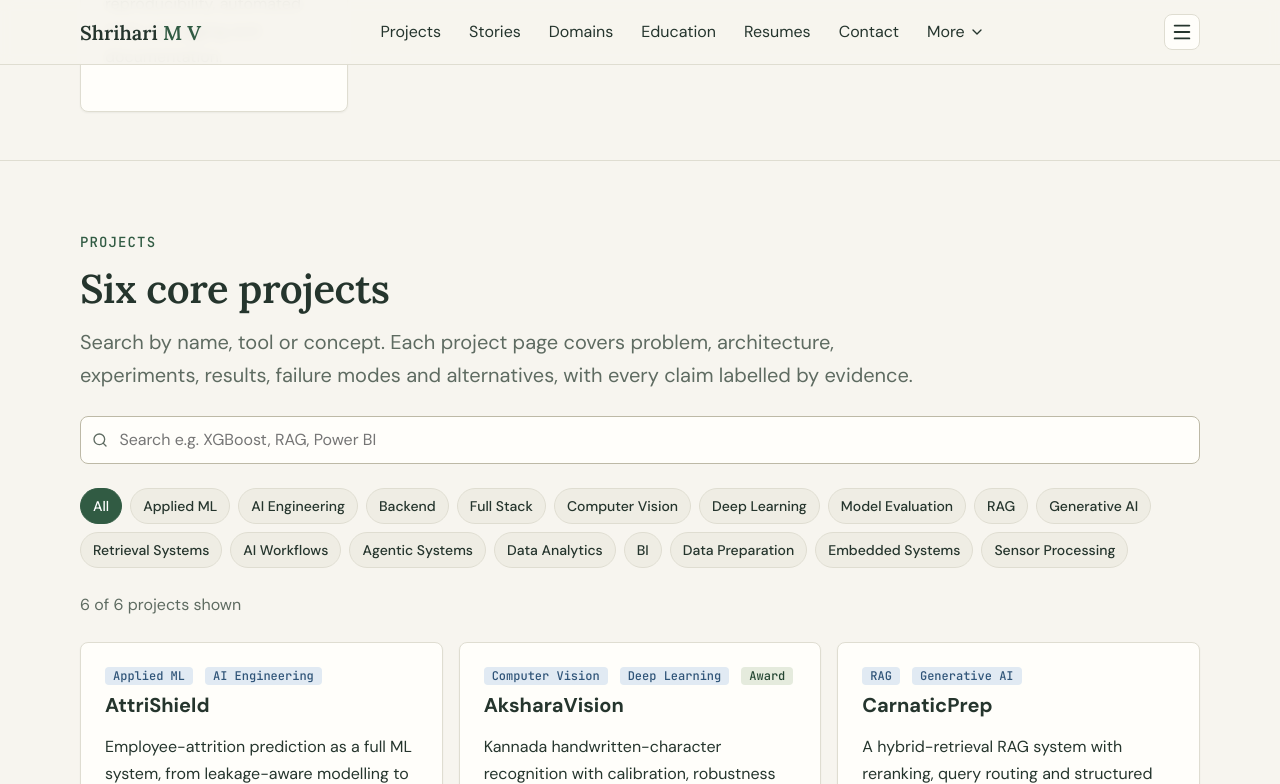
Scenario: public portfolio › shows all six projects and filters by search
(page scrolled)
In the search field named "Search projects": (640, 440) [80,416,1200,464], type "BM25"
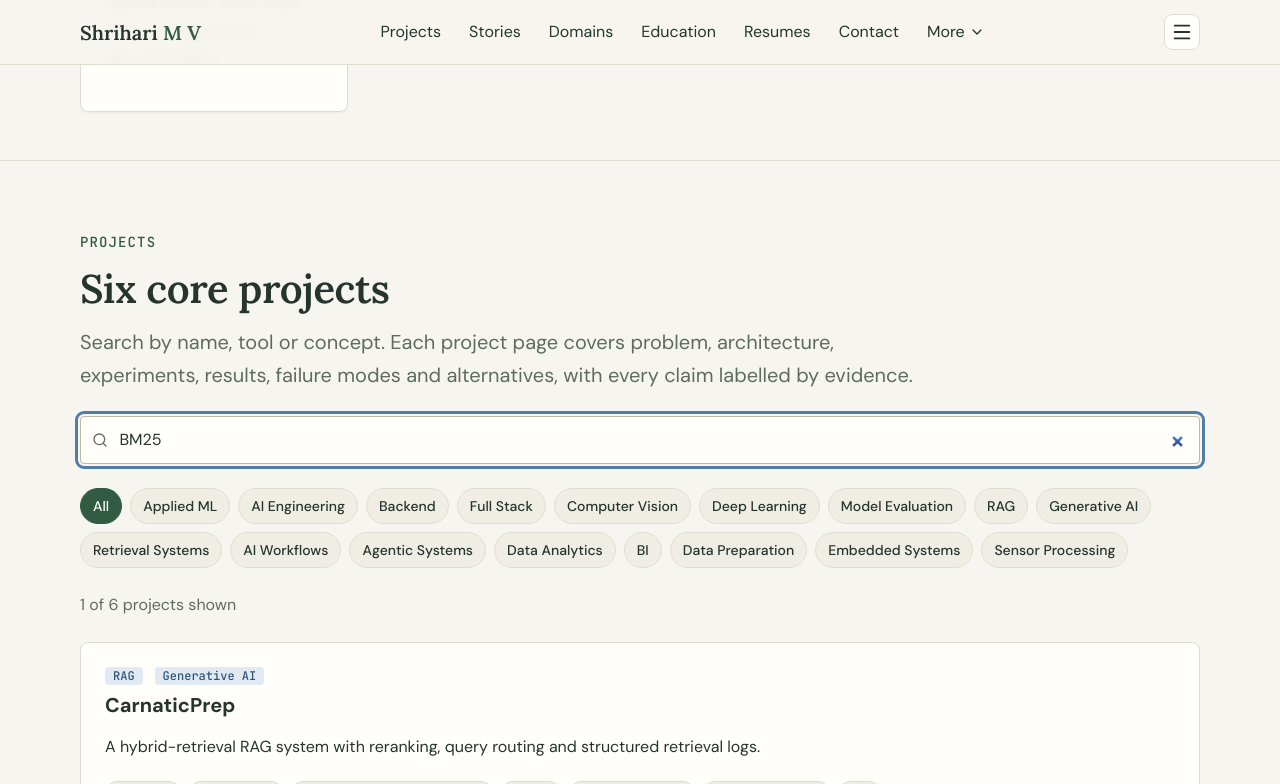
Replace the text in the search field named "Search projects" with "zzzz": (640, 440) [80,416,1200,464]
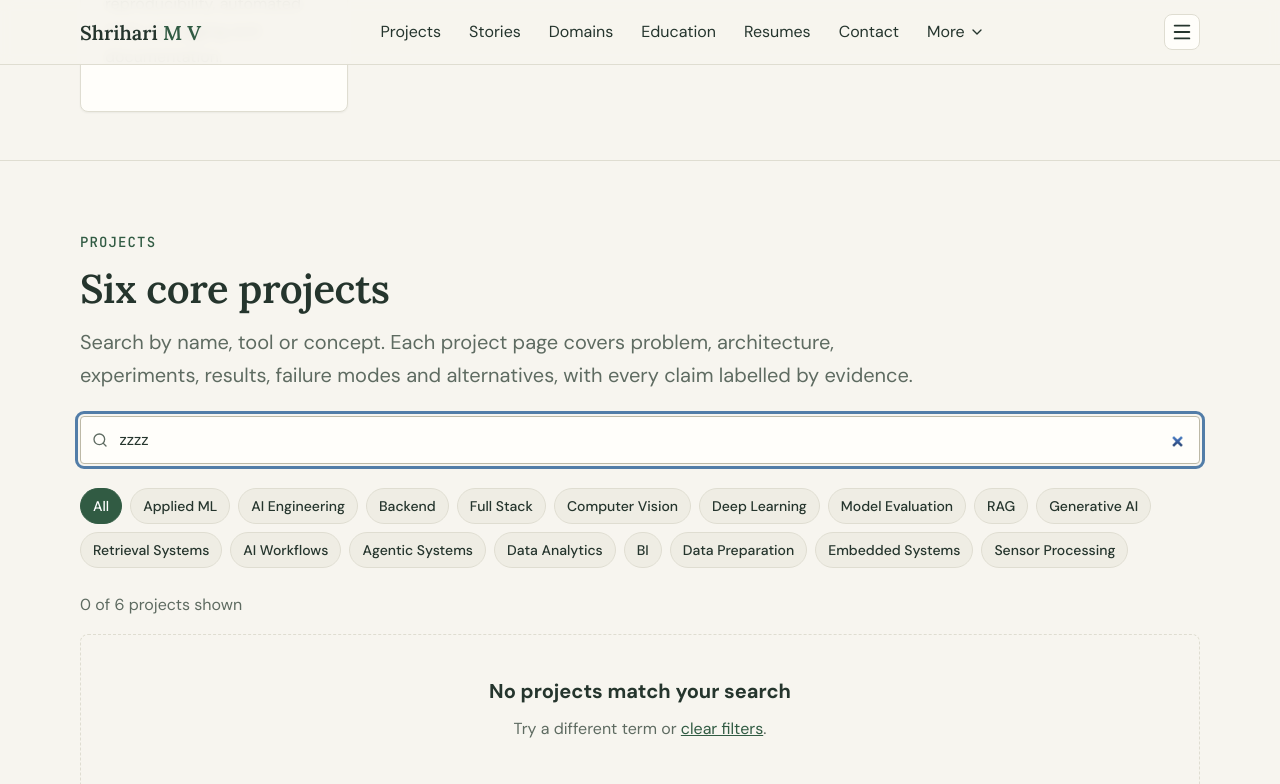
Check: the text "No projects match your search" is shown, box [489,678,791,704]
